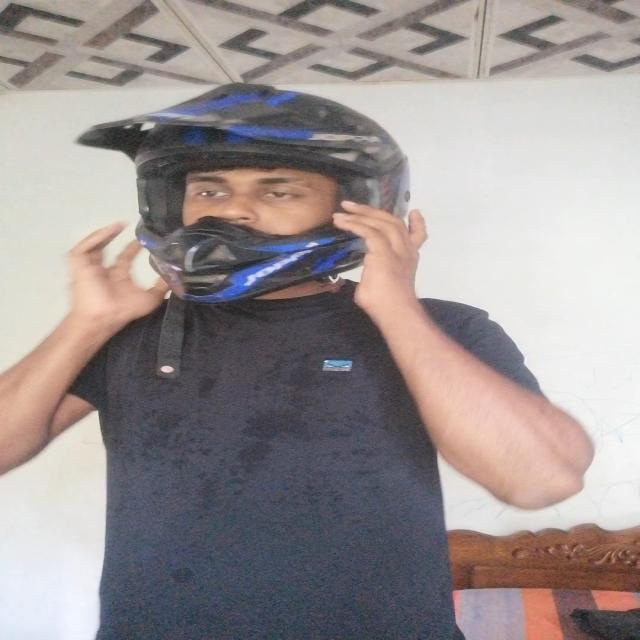Helmet_Wearer: (59, 79, 433, 332)
Person: (3, 81, 632, 640)
